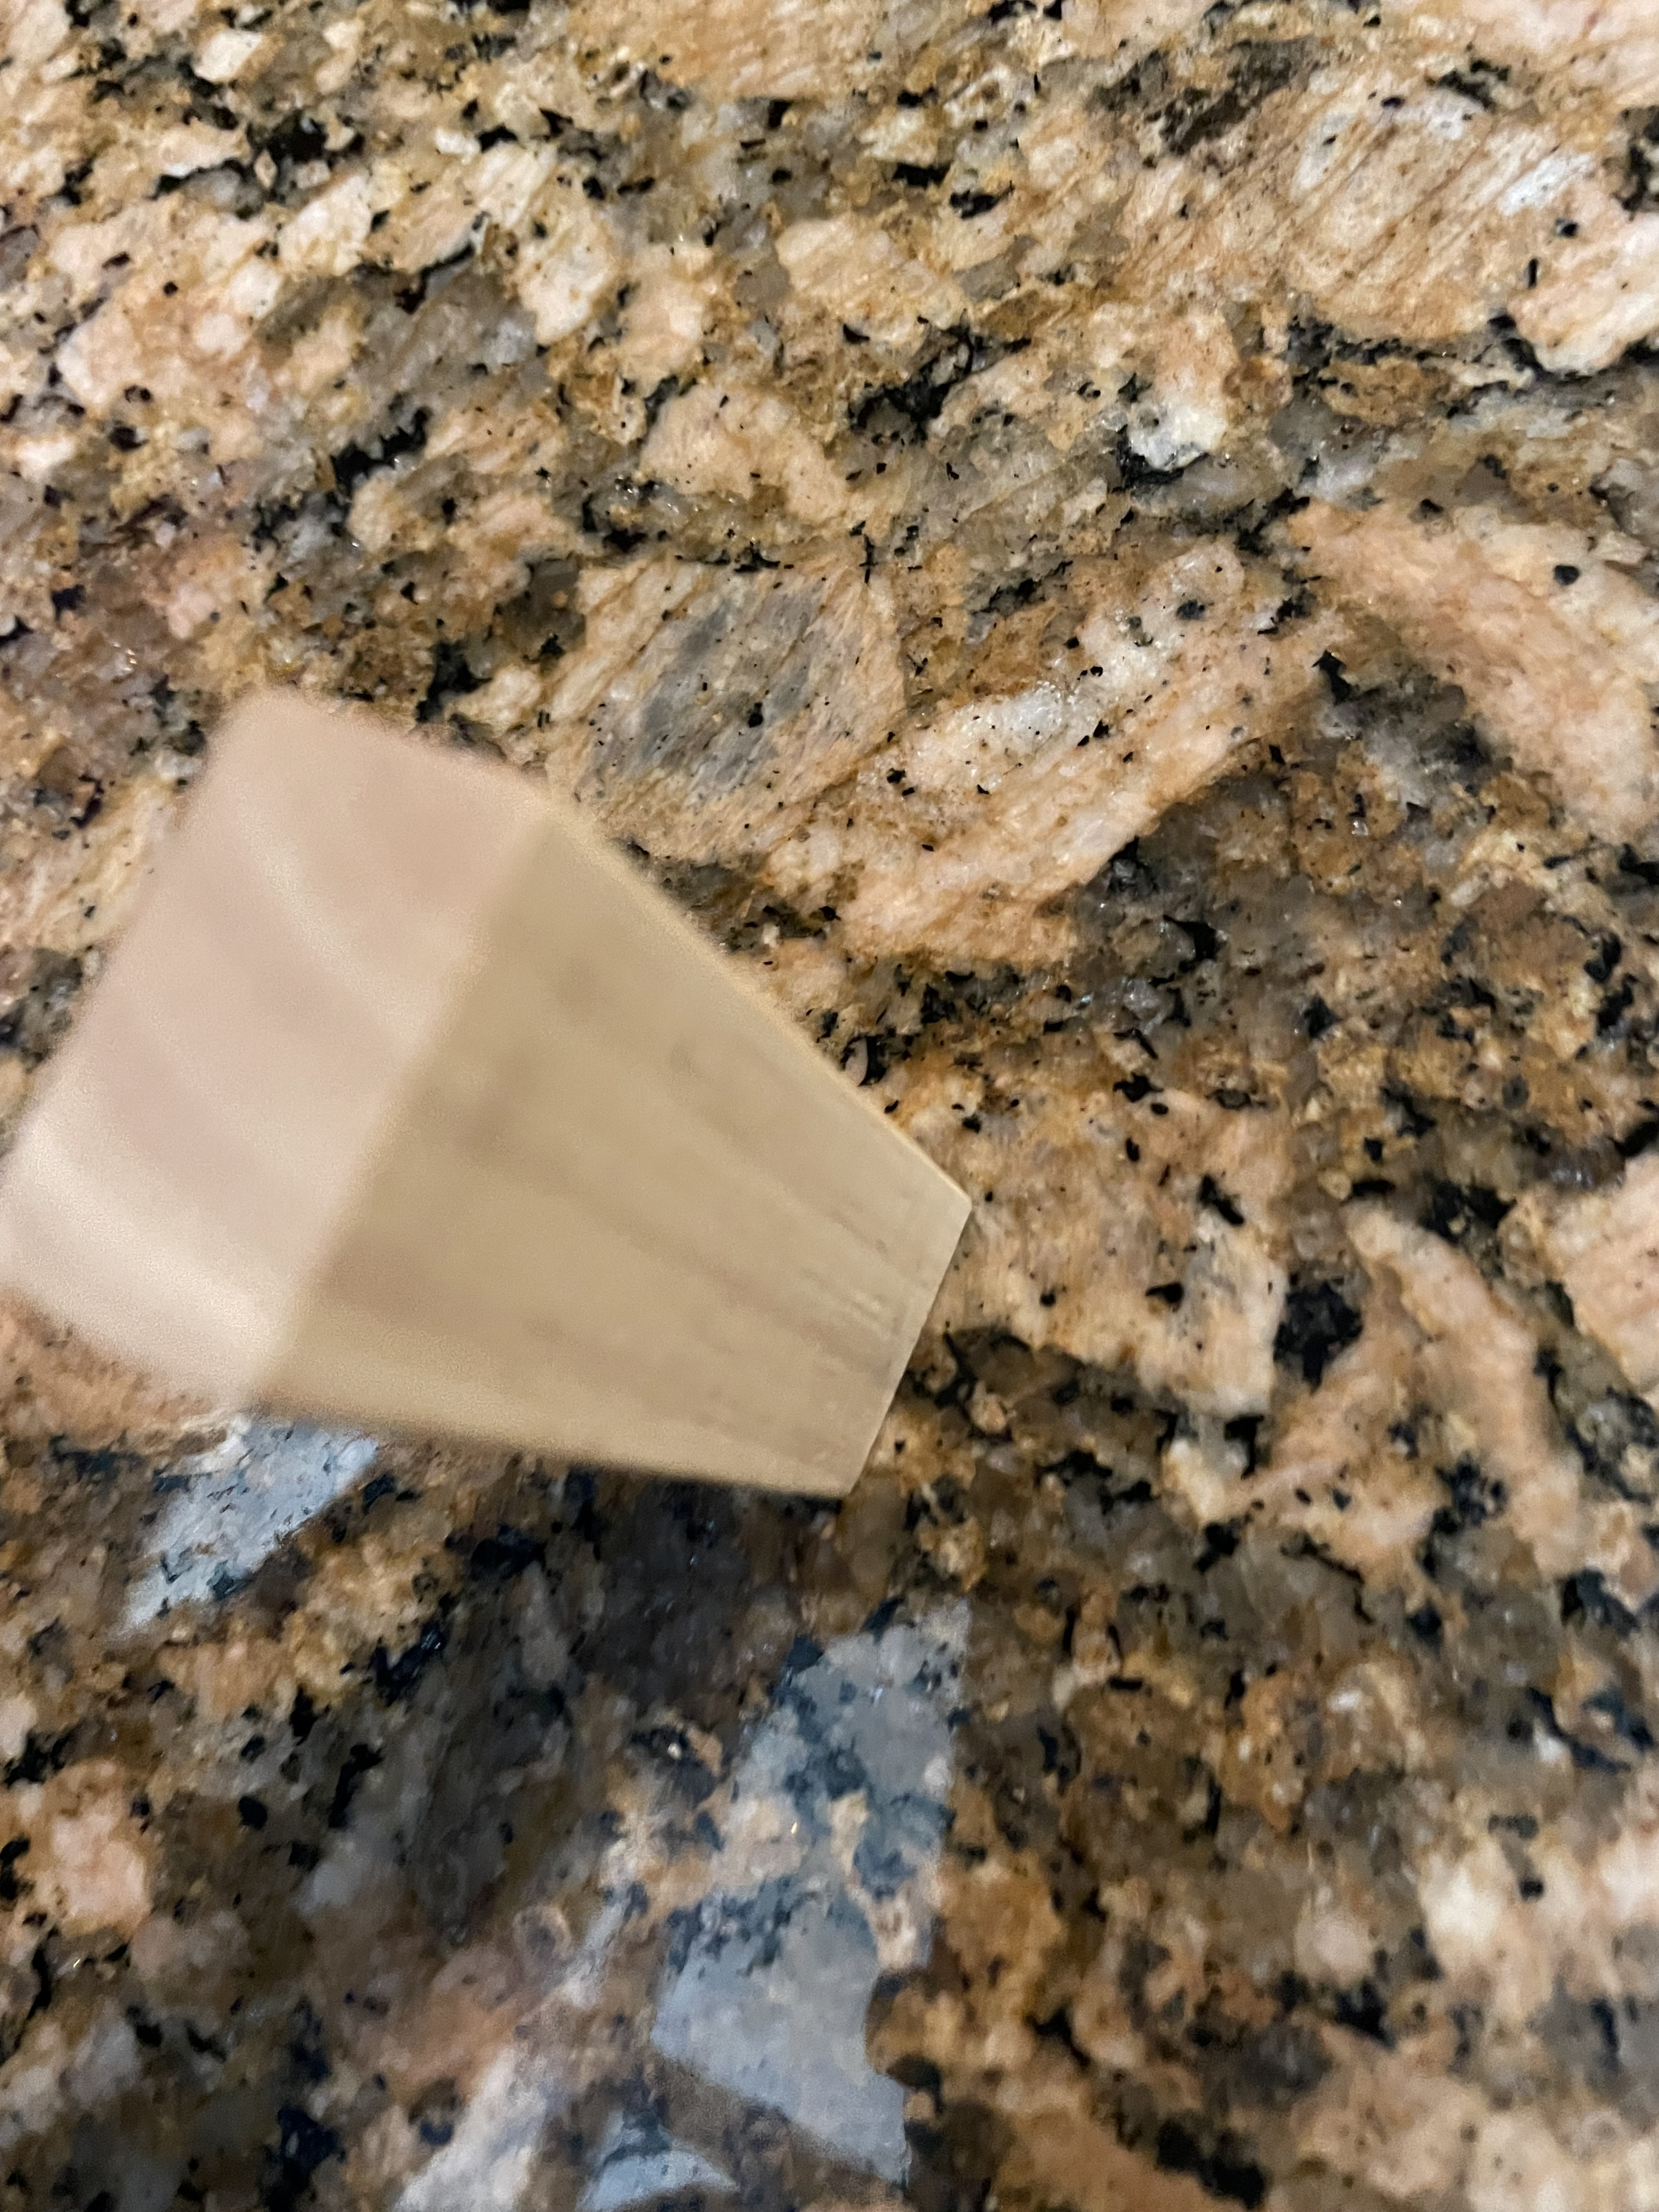jenga: (3, 665, 978, 1503)
